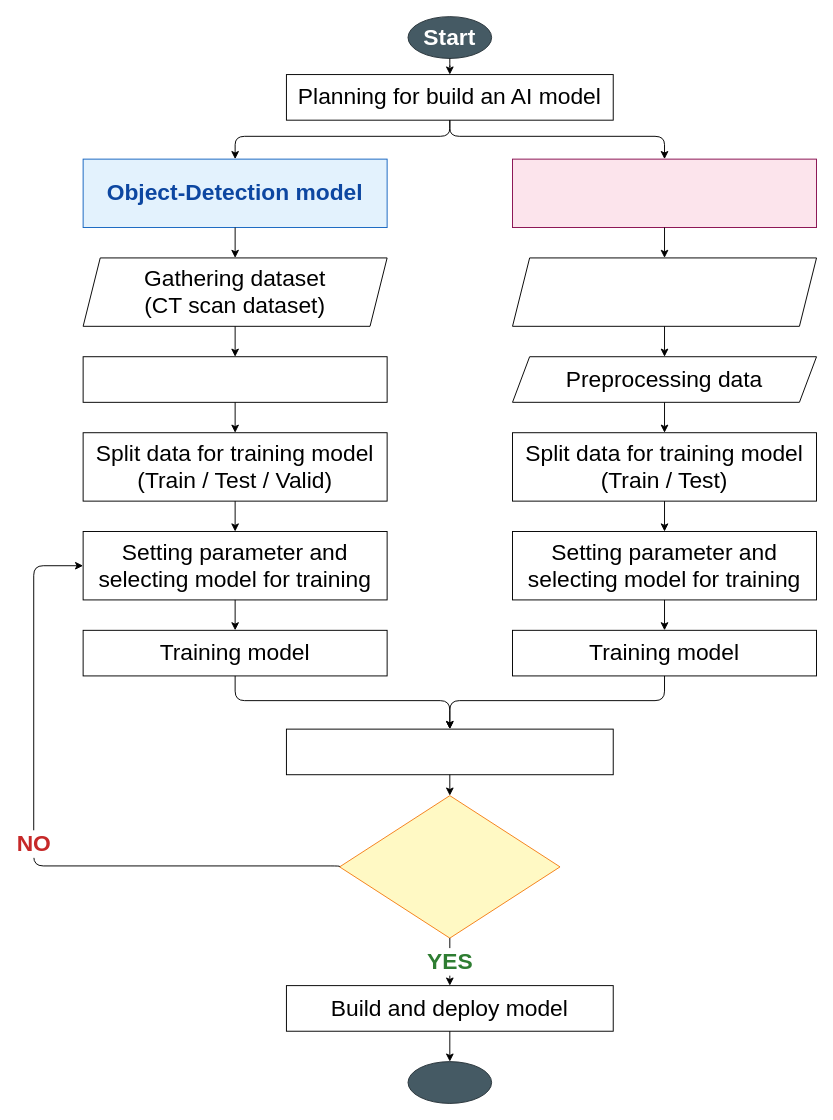
Some shapes in this 833 by 1120 pixel diagram are drawn without their labels. The shapes that lost their labels are listed below. From the top down, each one's centre as x and y in pixels, then its label:
At (664,193): "Machine-Learning model".
At (664,291): "Gathering Dataset (Patients information)".
At (234,379): "Annotating type of tumor".
At (449,751): "Evaluating model".
At (449,866): "Is score good?".
At (449,1082): "End".
